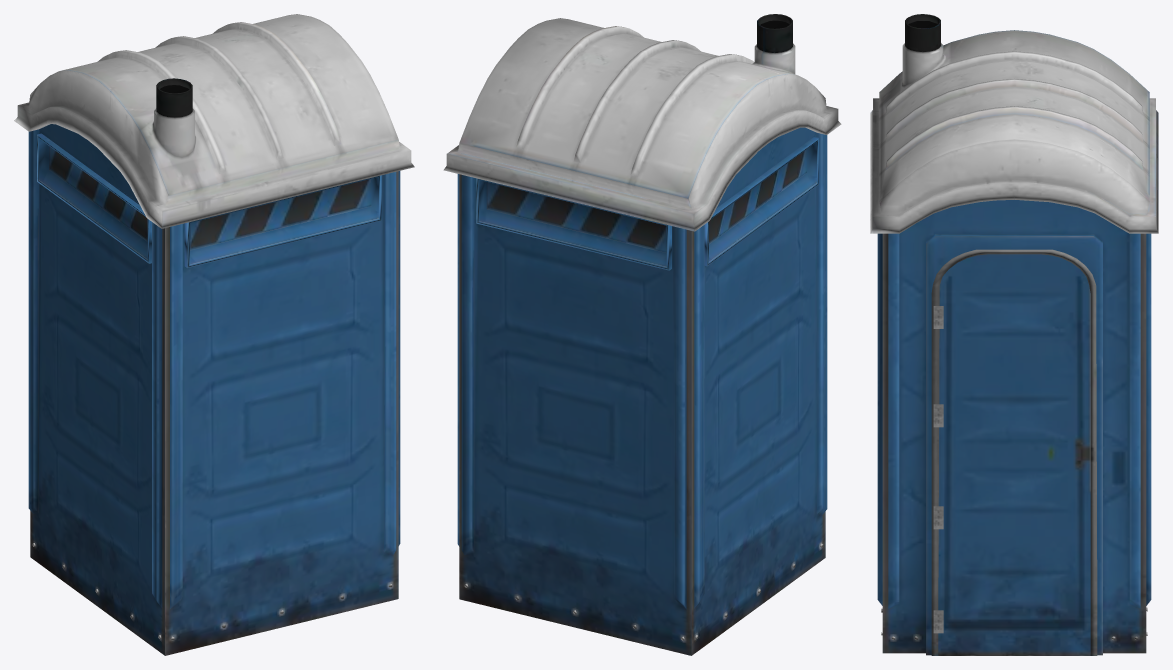
The model's file is porta-potty.lod0.glb.
3 renders of one model, left to right at view 1: azimuth 30°, elevation 25°; view 2: azimuth 150°, elevation 25°; view 3: azimuth 270°, elevation 25°, orthographic. The views are drawn at different scales.
Visible parts, largest first — view 1: defaultMaterial; view 2: defaultMaterial; view 3: defaultMaterial.
Part boxes in pixels (x1,y1,x2,y2): defaultMaterial: [14, 14, 414, 655]; defaultMaterial: [443, 14, 841, 655]; defaultMaterial: [870, 14, 1158, 655].
Bounding box in the file's own units: 0.9679 × 2 × 0.9776.
1 material, 1 textured.
